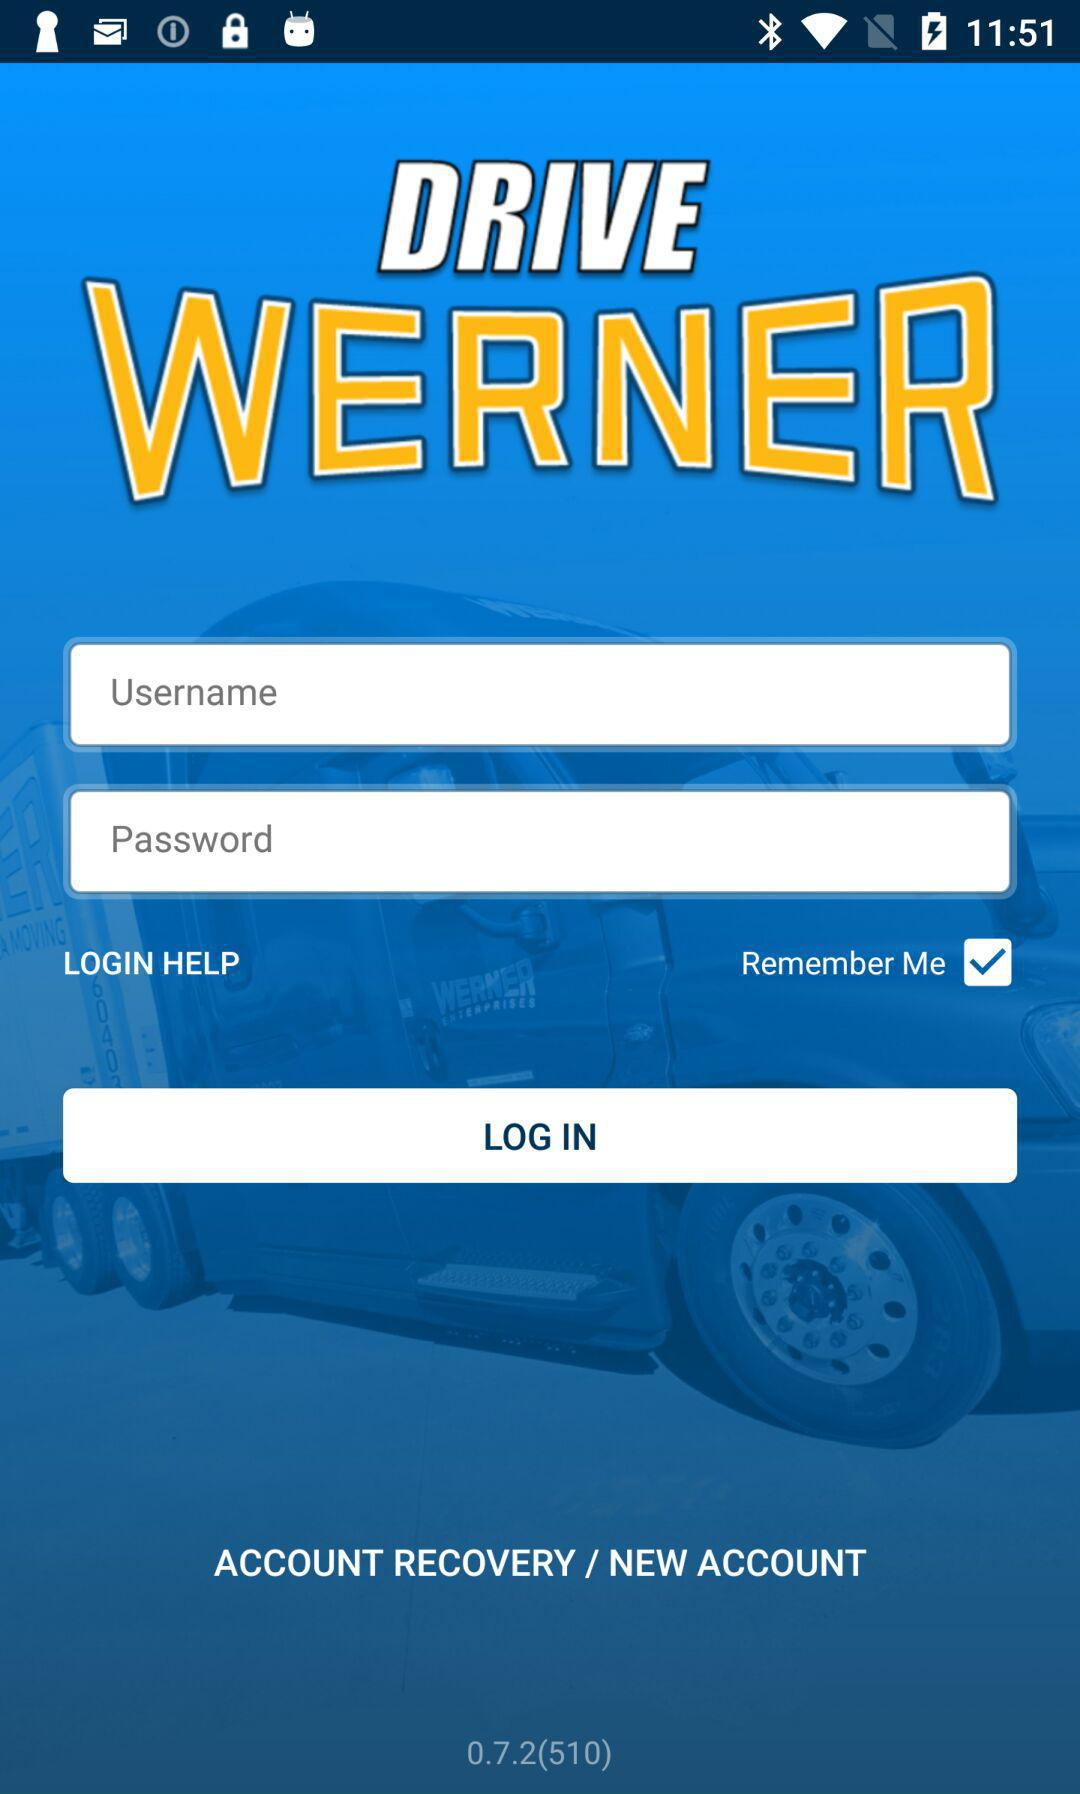BackgroundImage: (1, 64, 1080, 1794)
CheckedTextView: (742, 938, 1013, 988)
EditText: (61, 636, 1019, 755), (63, 783, 1019, 901)
Image: (79, 158, 1001, 507)
Text: (213, 1548, 869, 1577), (742, 950, 945, 976), (113, 824, 273, 855), (111, 678, 278, 707), (64, 951, 241, 976)
TextButton: (63, 1088, 1019, 1184)
UpperTaskBar: (1, 1, 1080, 64)
